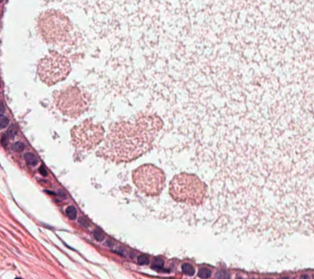nucleus: (97, 113, 162, 162), (169, 172, 207, 206), (36, 50, 70, 85), (54, 85, 89, 117), (70, 119, 104, 150), (132, 164, 165, 195), (66, 206, 76, 218), (182, 264, 194, 274), (199, 268, 210, 277), (138, 255, 148, 264)
